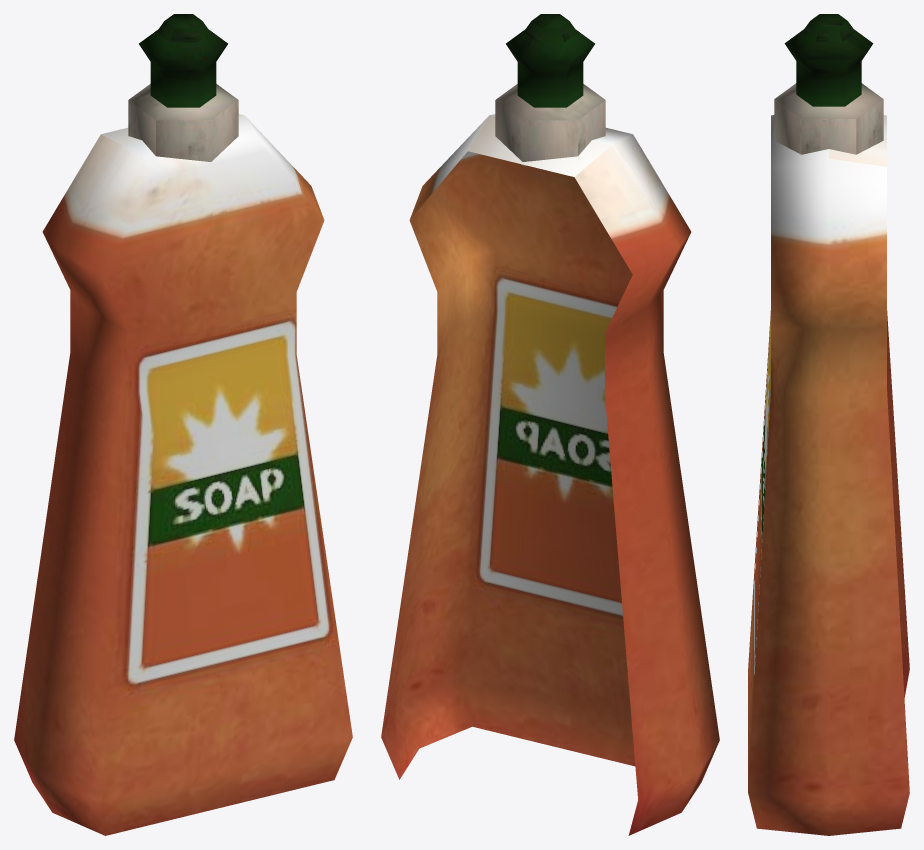
The model's file is sabao.fbx.
The picture shows the model from 3 angles, left to right: view 1: azimuth 30°, elevation 25°; view 2: azimuth 150°, elevation 25°; view 3: azimuth 270°, elevation 25°; orthographic projection.
Visible parts, largest first — view 1: Cozinha_Vassoura_ProdutoLimpeza.001; view 2: Cozinha_Vassoura_ProdutoLimpeza.001; view 3: Cozinha_Vassoura_ProdutoLimpeza.001.
Part boxes in pixels (box(x1,y1,x2,y2)): Cozinha_Vassoura_ProdutoLimpeza.001: box(14, 14, 352, 835); Cozinha_Vassoura_ProdutoLimpeza.001: box(381, 14, 719, 835); Cozinha_Vassoura_ProdutoLimpeza.001: box(748, 14, 909, 835).
Bounding box in the file's own units: 1378 × 3399 × 662.
